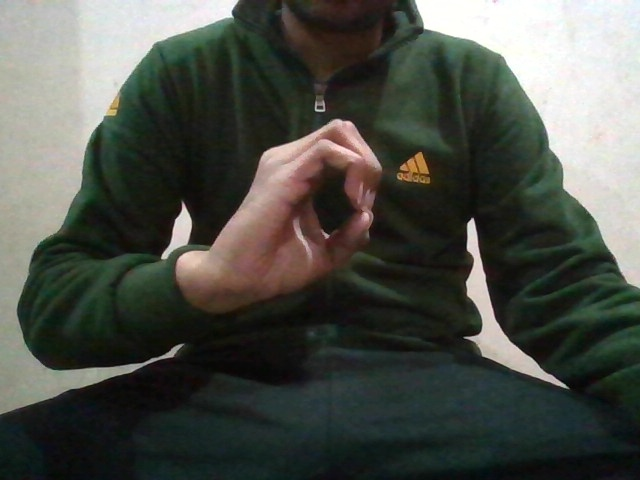O: (228, 111, 375, 259)
